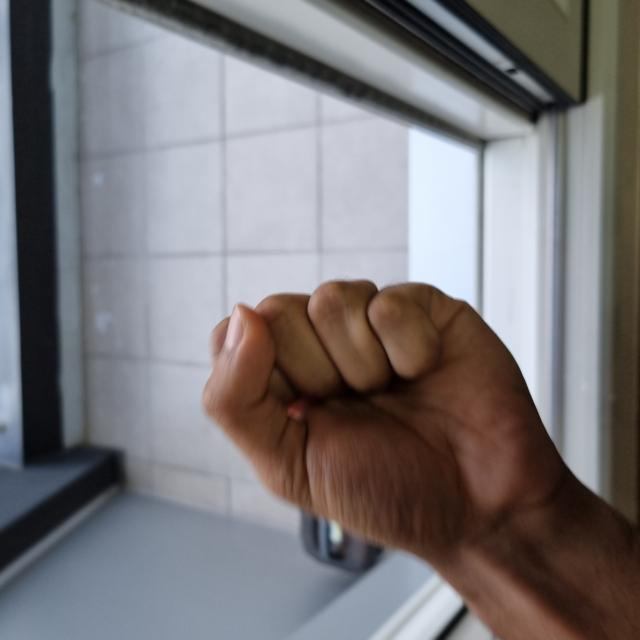Rock: (62, 202, 362, 561)
